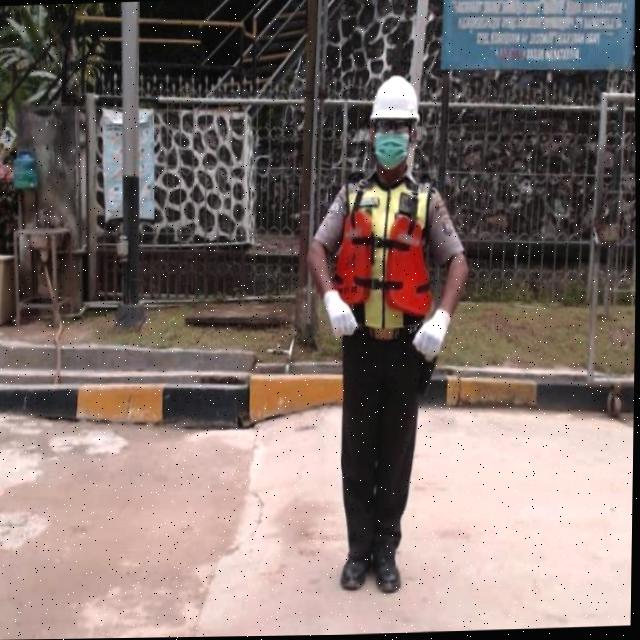goggles_on: (367, 108, 426, 139)
